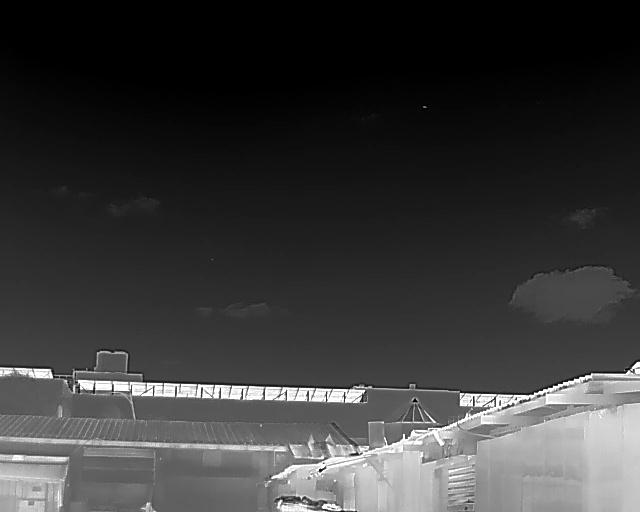fpv-drone: (422, 105, 427, 108)
